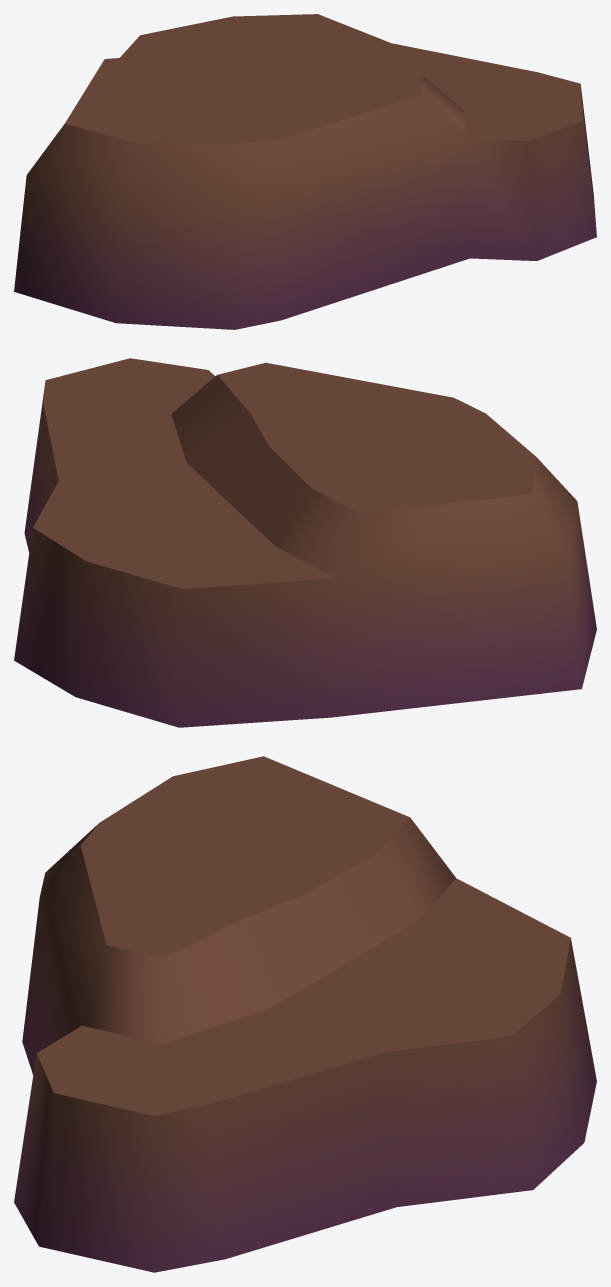
3 views of the same model, one above another, from view 1: azimuth 30°, elevation 25°; view 2: azimuth 150°, elevation 25°; view 3: azimuth 270°, elevation 25° (orthographic). The views are drawn at different scales.
Visible parts, largest first — view 1: Cube.091; view 2: Cube.091; view 3: Cube.091.
Part boxes in pixels (x1,y1,x2,y2): Cube.091: (14, 14, 596, 329); Cube.091: (14, 358, 596, 727); Cube.091: (14, 756, 596, 1272).
Bounding box in the file's own units: 22.99 × 6.54 × 16.69.
